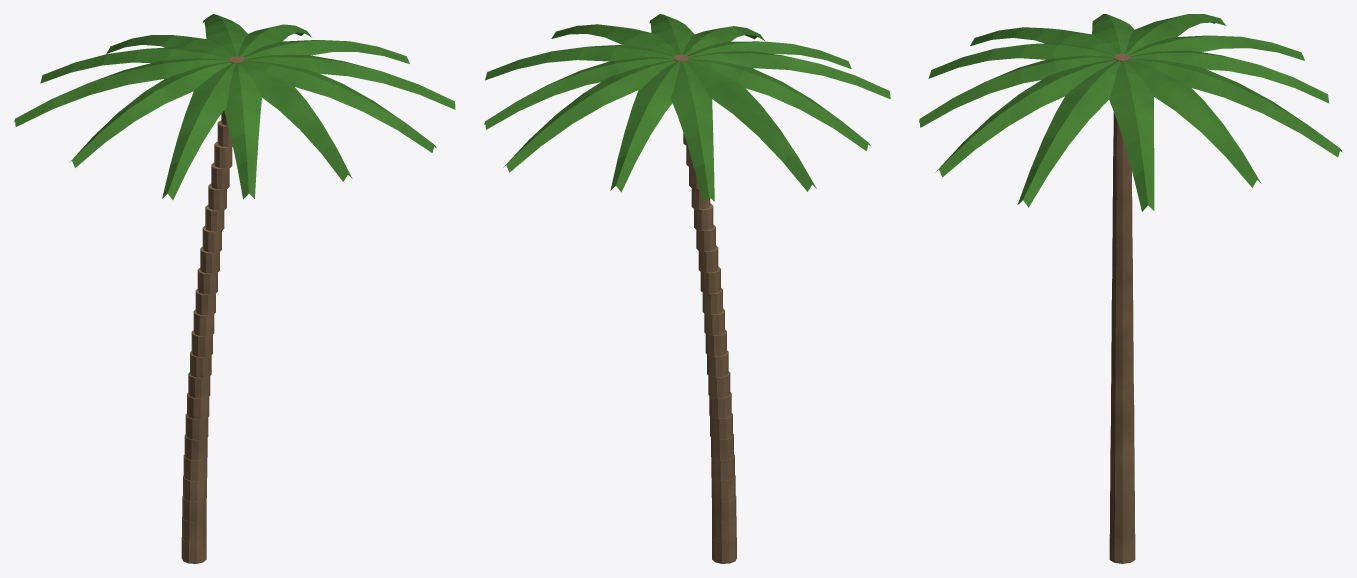
The model's file is pv_palma.glb.
3 renders of one model, left to right at view 1: azimuth 30°, elevation 25°; view 2: azimuth 150°, elevation 25°; view 3: azimuth 270°, elevation 25°, orthographic. The views are drawn at different scales.
Parts seen in each view (by area): view 1: dum; view 2: dum; view 3: dum.
Boxes of the visible parts, x1,y1,x2,y2 form: dum: (14, 14, 455, 563); dum: (484, 14, 890, 563); dum: (919, 14, 1342, 563).
Size of the model in its own units: 0.7699 by 1 by 0.7321.
Materials: 1 (1 with a texture image).
